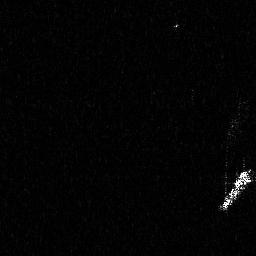ship: (216, 164, 256, 213)
